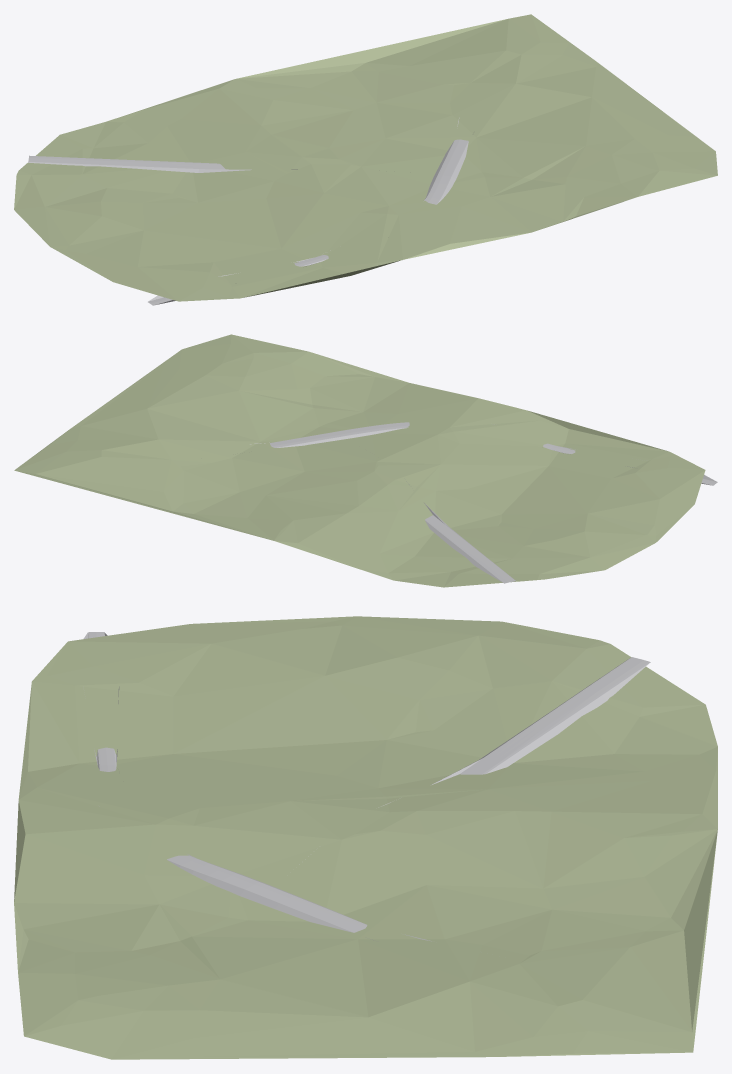
File: yol.glb
The picture shows the model from 3 angles, top to bottom: view 1: azimuth 30°, elevation 25°; view 2: azimuth 150°, elevation 25°; view 3: azimuth 270°, elevation 25°; orthographic projection. The views are drawn at different scales.
Visible parts, largest first — view 1: Mevcut zemin, Yan koridor, Ana koridor; view 2: Mevcut zemin, Ana koridor, Yan koridor; view 3: Mevcut zemin, Yan koridor, Ana koridor.
Boxes of the visible parts, x1,y1,x2,y2 form: Mevcut zemin: [14, 14, 717, 301]; Yan koridor: [28, 155, 297, 172]; Ana koridor: [148, 117, 468, 305]; Mevcut zemin: [14, 334, 705, 587]; Ana koridor: [250, 422, 717, 485]; Yan koridor: [406, 481, 515, 583]; Mevcut zemin: [14, 616, 717, 1059]; Yan koridor: [299, 657, 650, 864]; Ana koridor: [83, 632, 431, 941].
Size of the model in its own units: 597 by 17.4 by 389.
